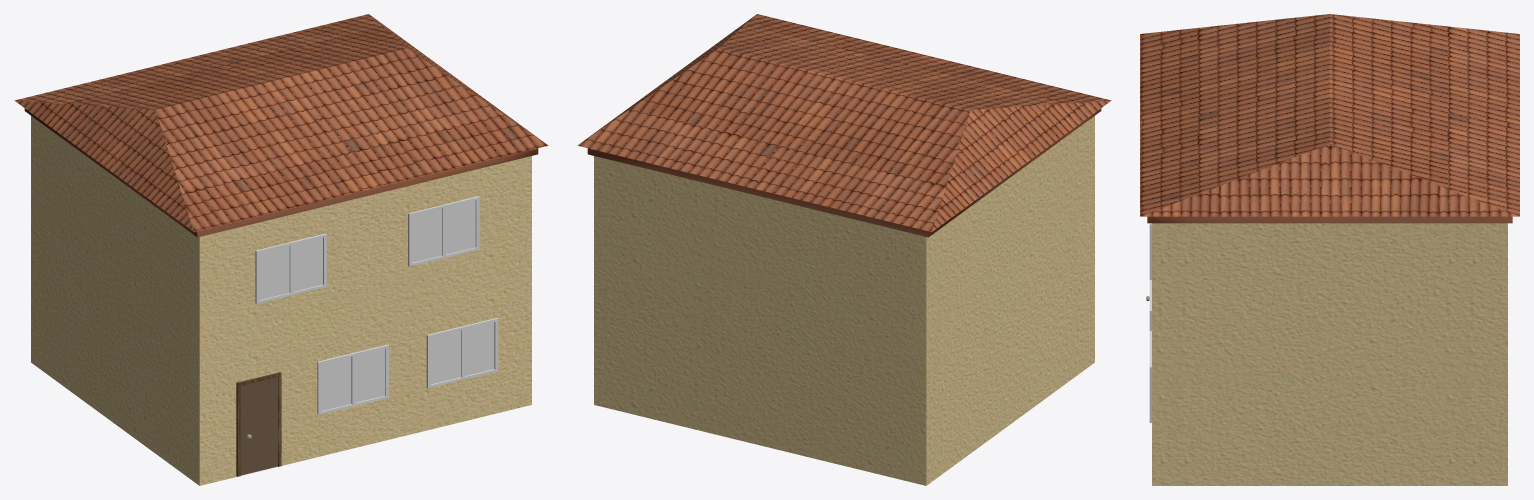
The model's file is HOUSE_10.fbx.
3 renders of one model, left to right at view 1: azimuth 30°, elevation 25°; view 2: azimuth 150°, elevation 25°; view 3: azimuth 270°, elevation 25°, orthographic. The views are drawn at different scales.
Visible parts, largest first — view 1: HOUSE_10; view 2: HOUSE_10; view 3: HOUSE_10.
Part boxes in pixels (x1,y1,x2,y2): HOUSE_10: (14, 14, 548, 485); HOUSE_10: (577, 14, 1111, 485); HOUSE_10: (1140, 14, 1519, 485).
Bounding box in the file's own units: 803 × 660 × 706.
